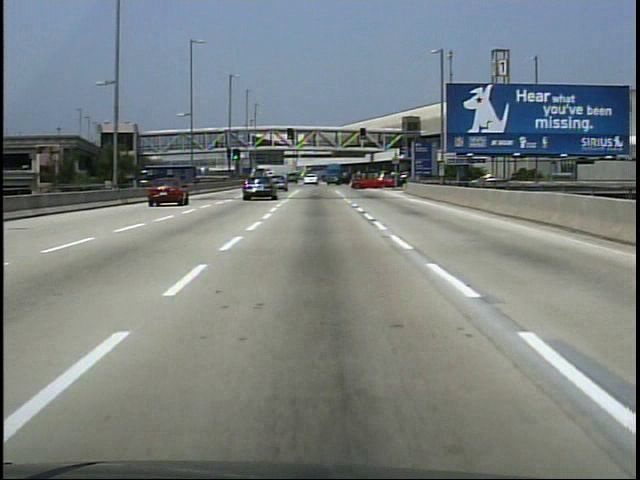person: (214, 141, 218, 150)
